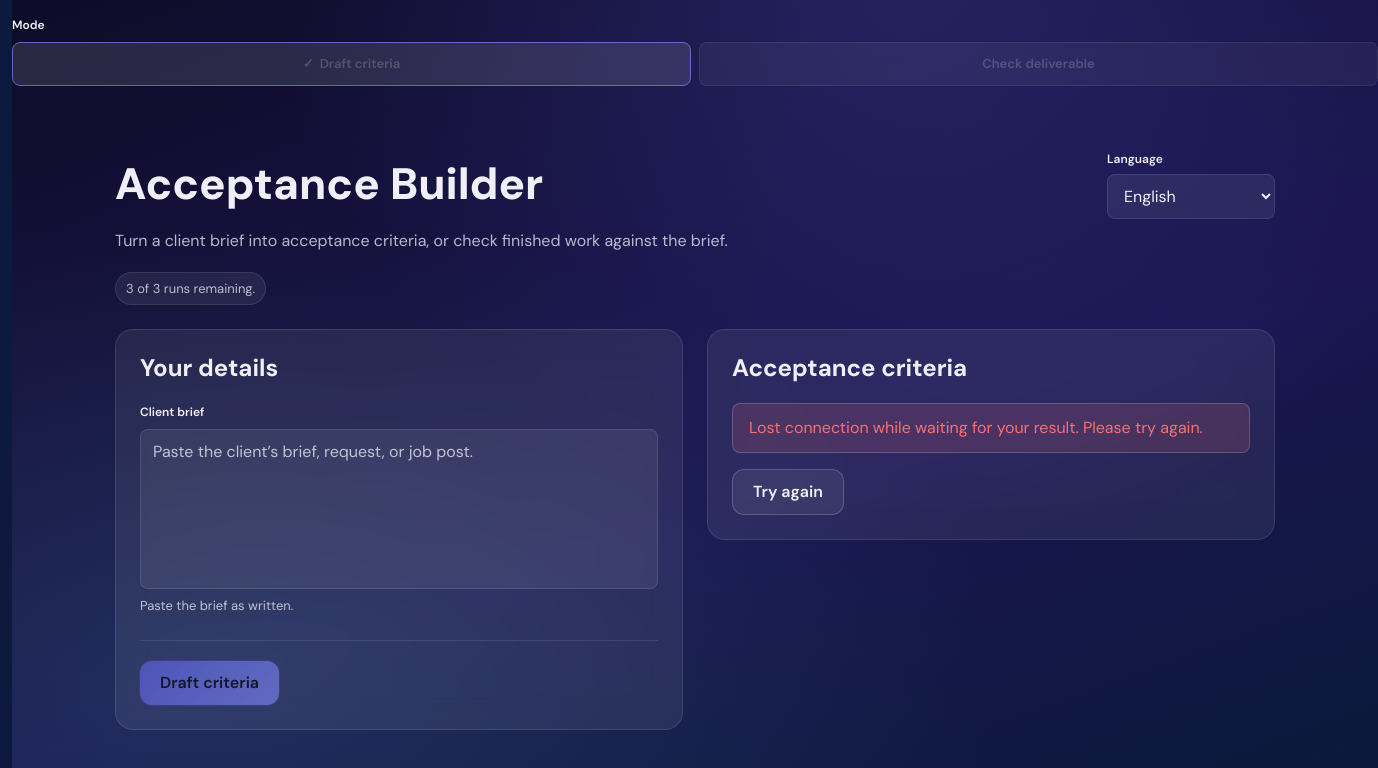
Test: Acceptance Builder page › keeps the mode switch blocked when the attached session's poll fails ambiguously, and Try again finishes the same session
The image size is (1378, 768).
Check: the radio button labelled "Check deliverable" is disabled, box [699,42,1377,86]
Click the button "Try again": {"x": 788, "y": 492} [732,469,844,515]
(page scrolled)
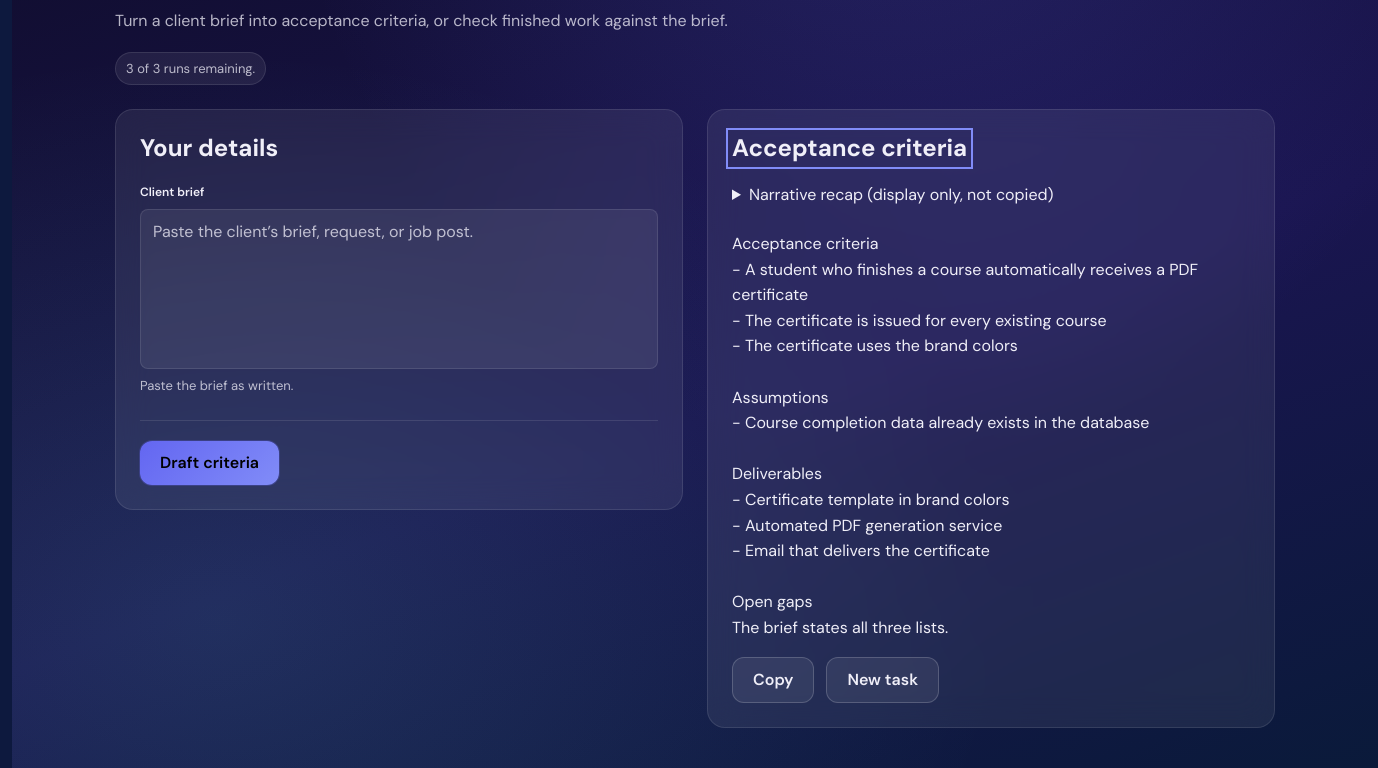
Check: the button "New task" is shown, box [826,657,939,703]
